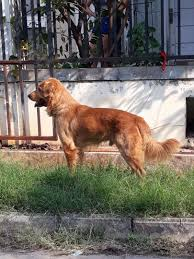Golden Retriever: (13, 68, 184, 194)
